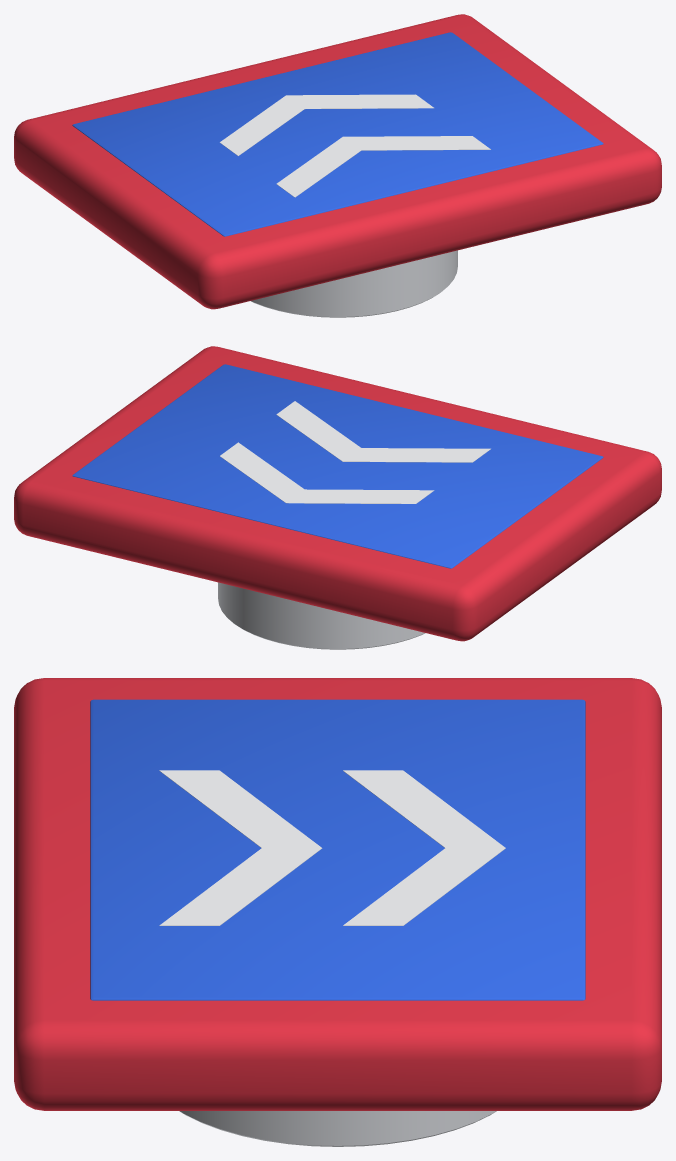
Rendered from SD_PadHead_4x3.fbx.
The picture shows the model from 3 angles, top to bottom: view 1: azimuth 30°, elevation 25°; view 2: azimuth 150°, elevation 25°; view 3: azimuth 270°, elevation 25°; orthographic projection. The views are drawn at different scales.
Parts seen in each view (by area): view 1: PadHead_4x3; view 2: PadHead_4x3; view 3: PadHead_4x3.
Part boxes in pixels (x1,y1,x2,y2): PadHead_4x3: [14, 14, 661, 317]; PadHead_4x3: [14, 346, 661, 649]; PadHead_4x3: [14, 678, 661, 1146].
Size of the model in its own units: 4 by 1.11 by 3.
